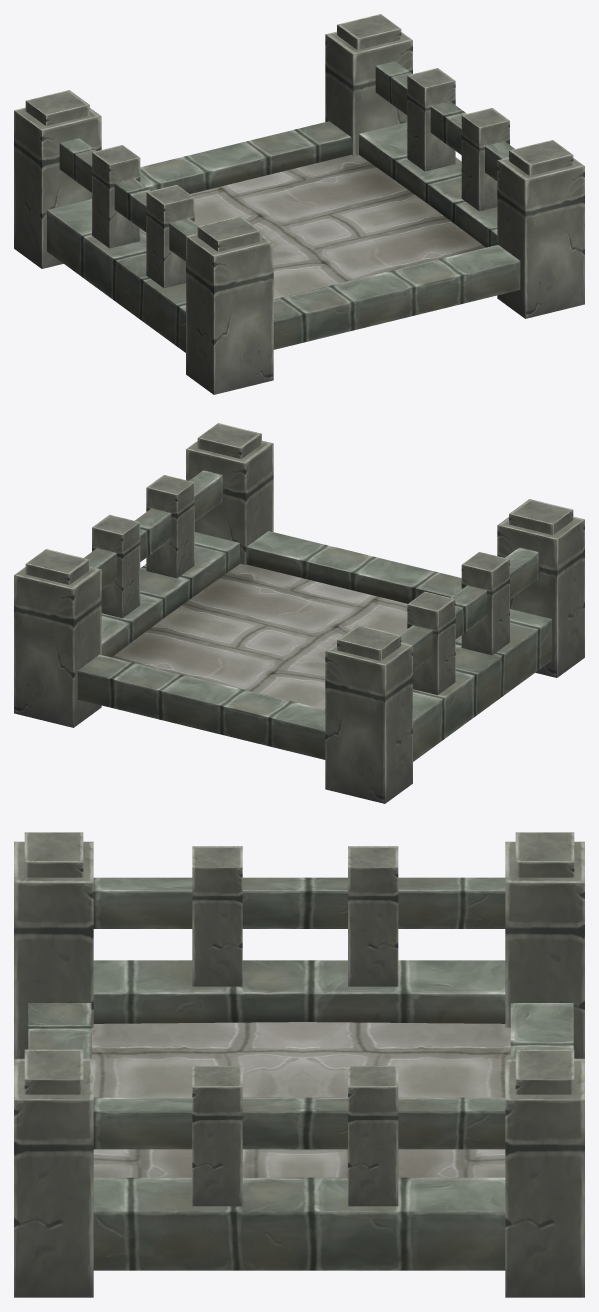
File: bridge_04_tile_05.fbx
3 views of the same model, one above another, from view 1: azimuth 30°, elevation 25°; view 2: azimuth 150°, elevation 25°; view 3: azimuth 270°, elevation 25° (orthographic). The views are drawn at different scales.
Visible parts, largest first — view 1: bridge_04_tile_05; view 2: bridge_04_tile_05; view 3: bridge_04_tile_05.
Part boxes in pixels (x1,y1,x2,y2): bridge_04_tile_05: (14,14,584,394); bridge_04_tile_05: (14,423,584,803); bridge_04_tile_05: (14,832,584,1297).
Bounding box in the file's own units: 2.84 × 1.09 × 2.65.
